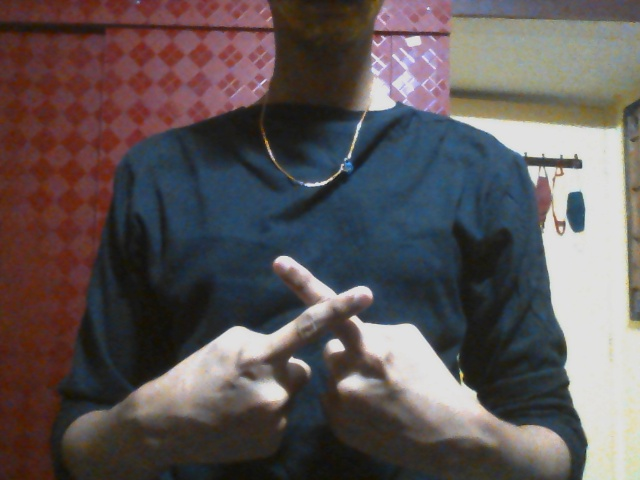X: (162, 254, 464, 469)
